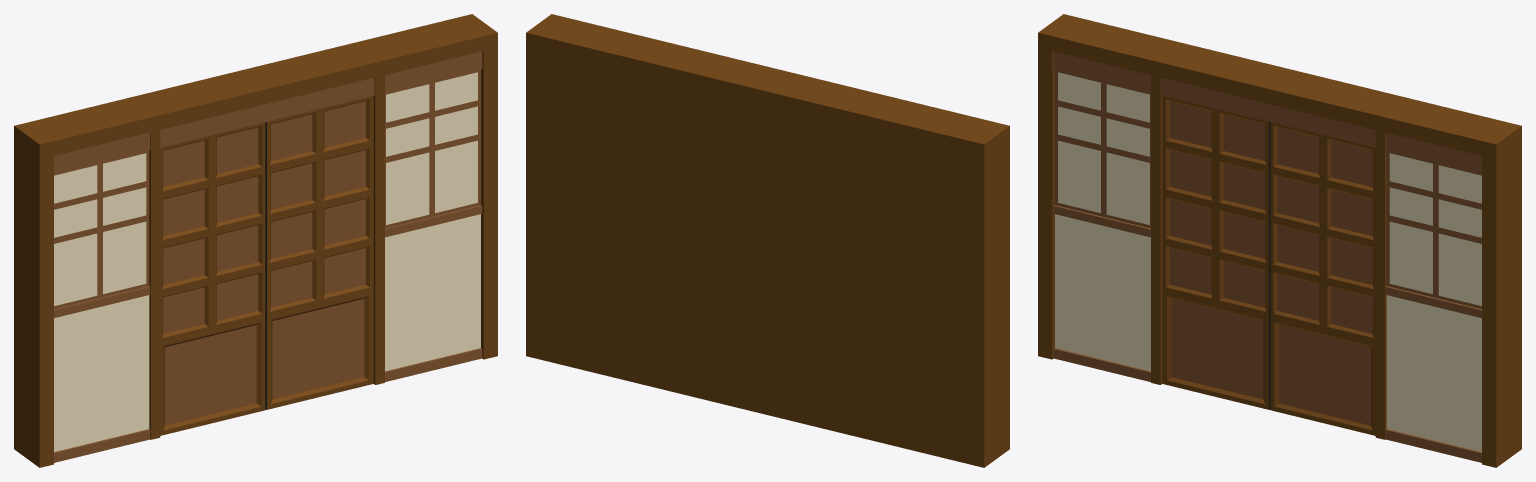
File: Asian_Prop_Building_Modular_Wall_Rural_02.FBX
The picture shows the model from 3 angles, left to right: view 1: azimuth 30°, elevation 25°; view 2: azimuth 150°, elevation 25°; view 3: azimuth 330°, elevation 25°; orthographic projection.
Parts seen in each view (by area): view 1: Asian_Prop_Building_Modular_Wall_Rural_02; view 2: Asian_Prop_Building_Modular_Wall_Rural_02; view 3: Asian_Prop_Building_Modular_Wall_Rural_02.
Part boxes in pixels (<box>): Asian_Prop_Building_Modular_Wall_Rural_02: <box>14,14,497,467</box>; Asian_Prop_Building_Modular_Wall_Rural_02: <box>526,14,1009,467</box>; Asian_Prop_Building_Modular_Wall_Rural_02: <box>1038,14,1521,467</box>.
Size of the model in its own units: 5167 by 3485 by 500.
